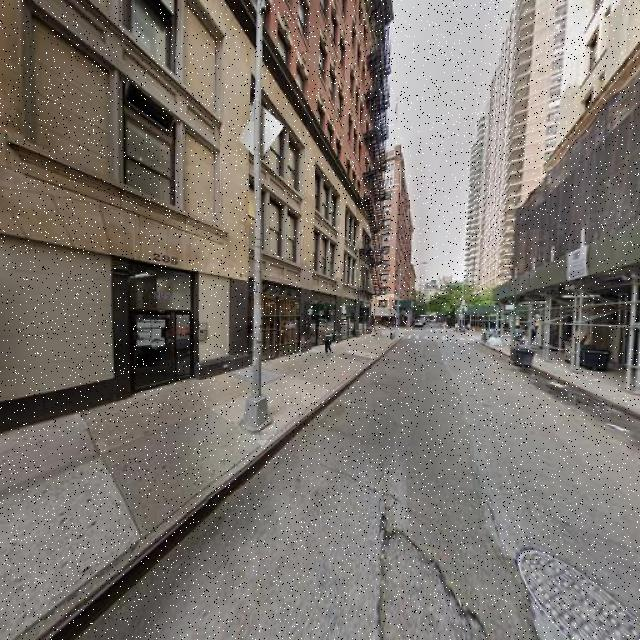Building: (1, 1, 375, 432), (572, 1, 640, 374)
